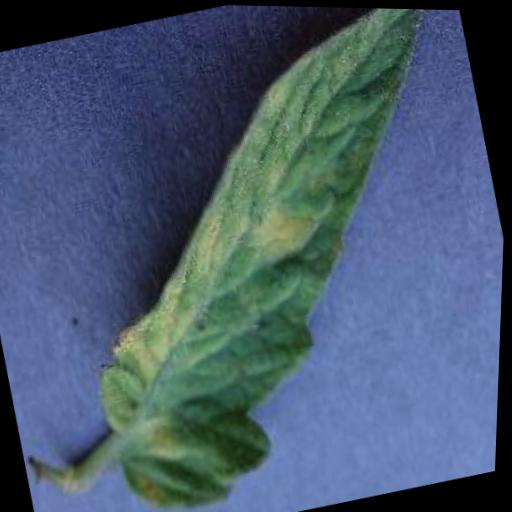Leaf Mold: (19, 1, 512, 512)
